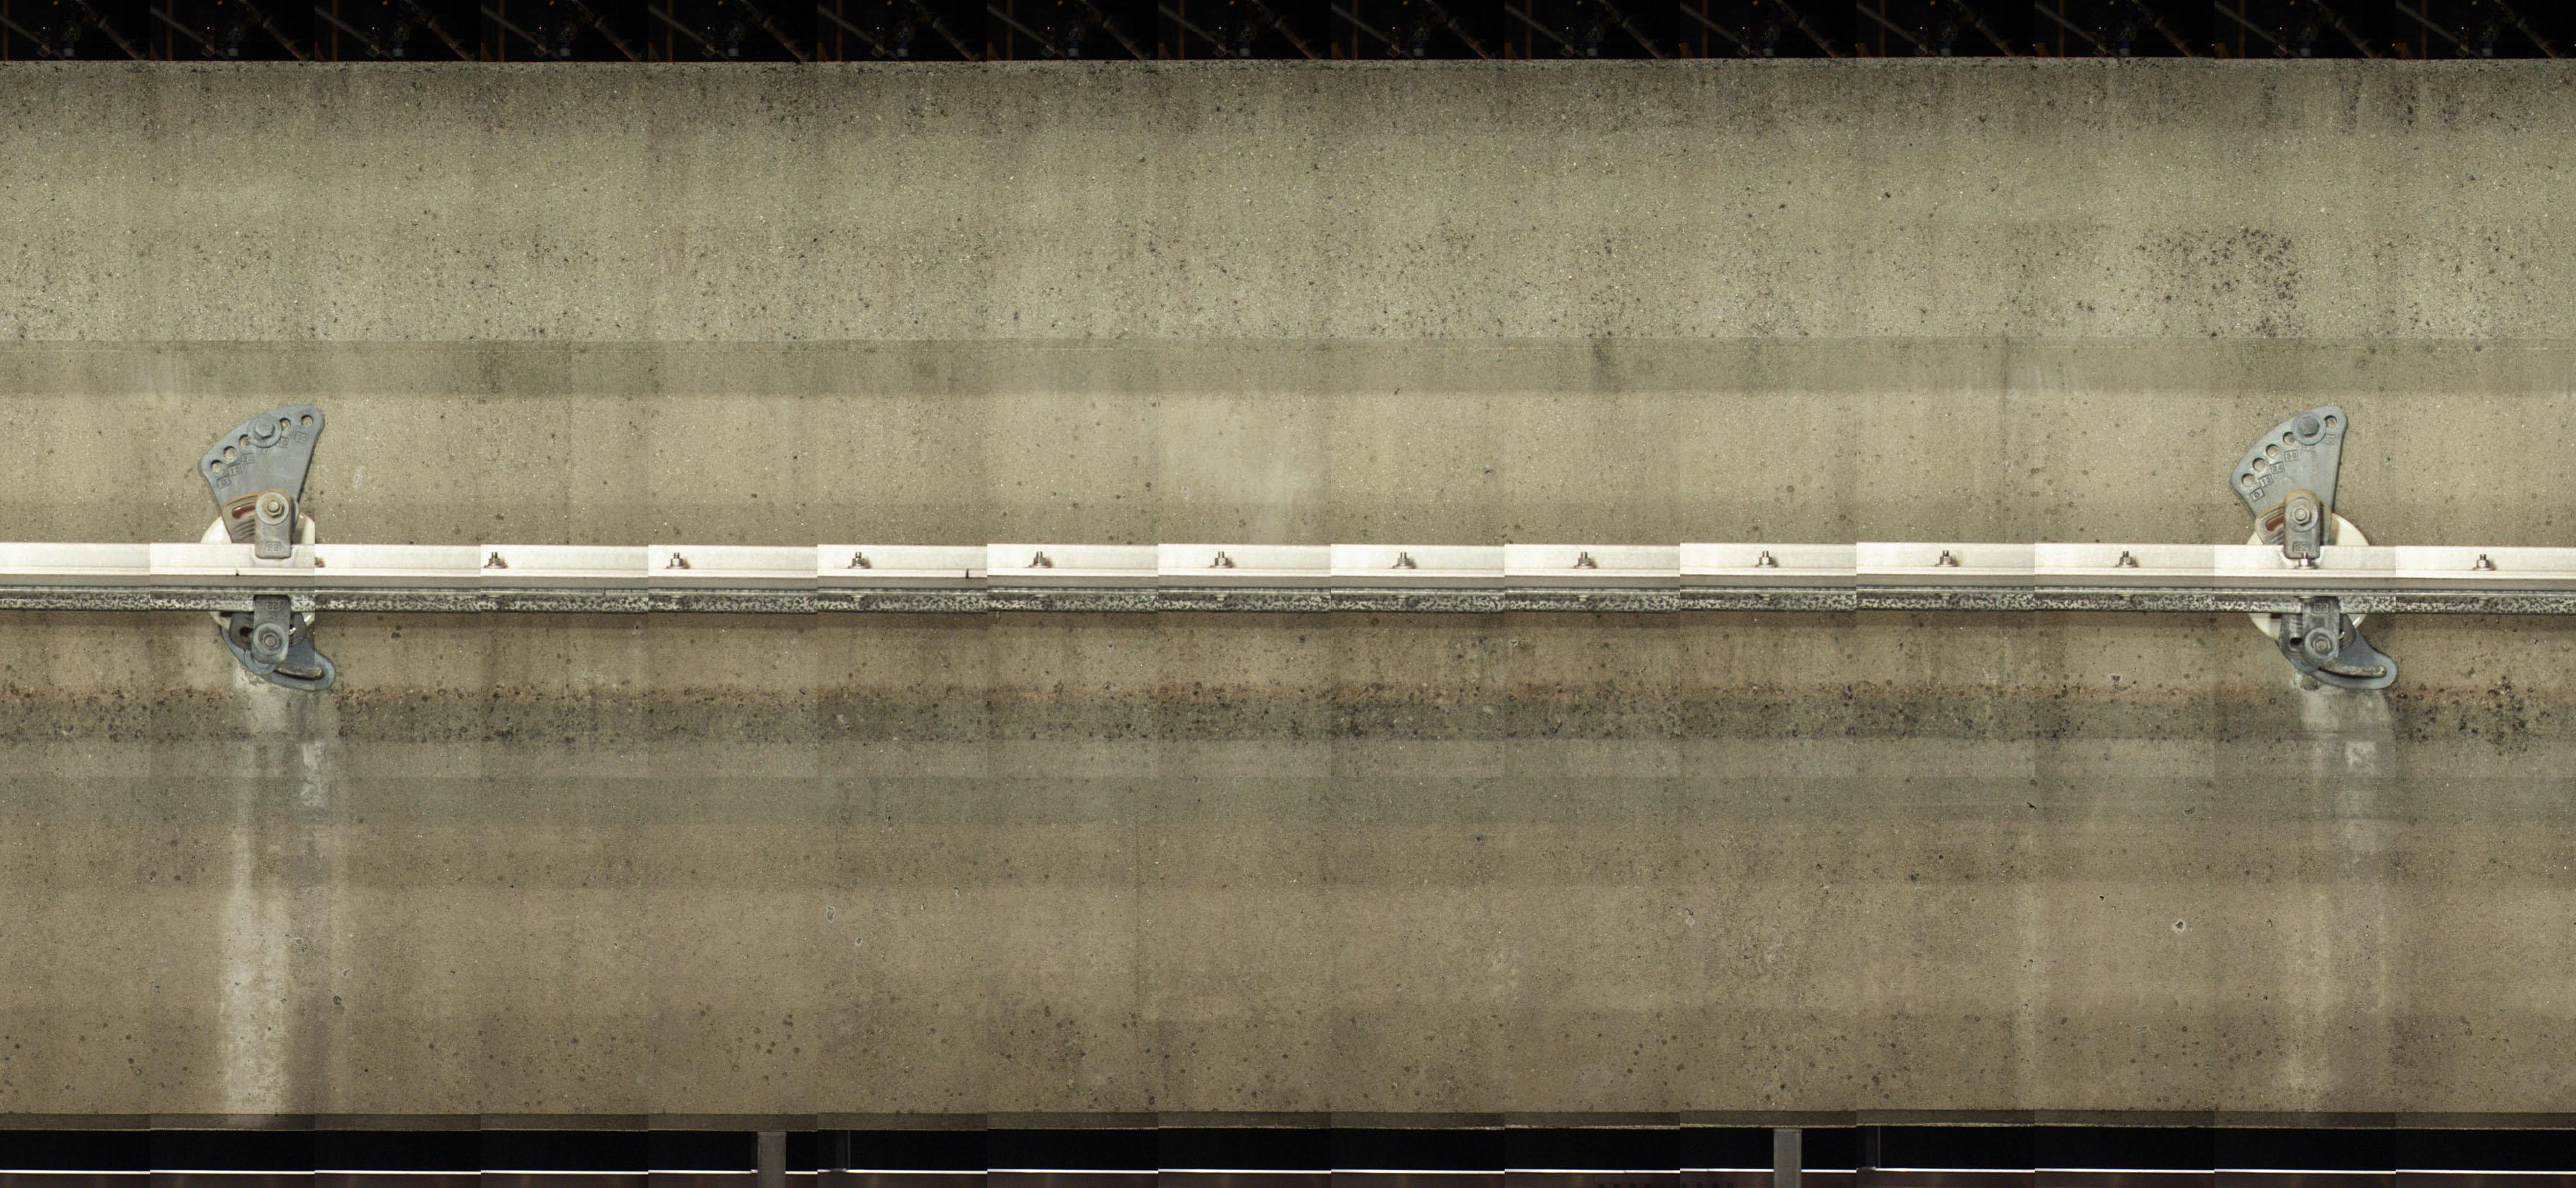concrete: (0, 606, 2576, 1119), (0, 61, 2576, 542)
